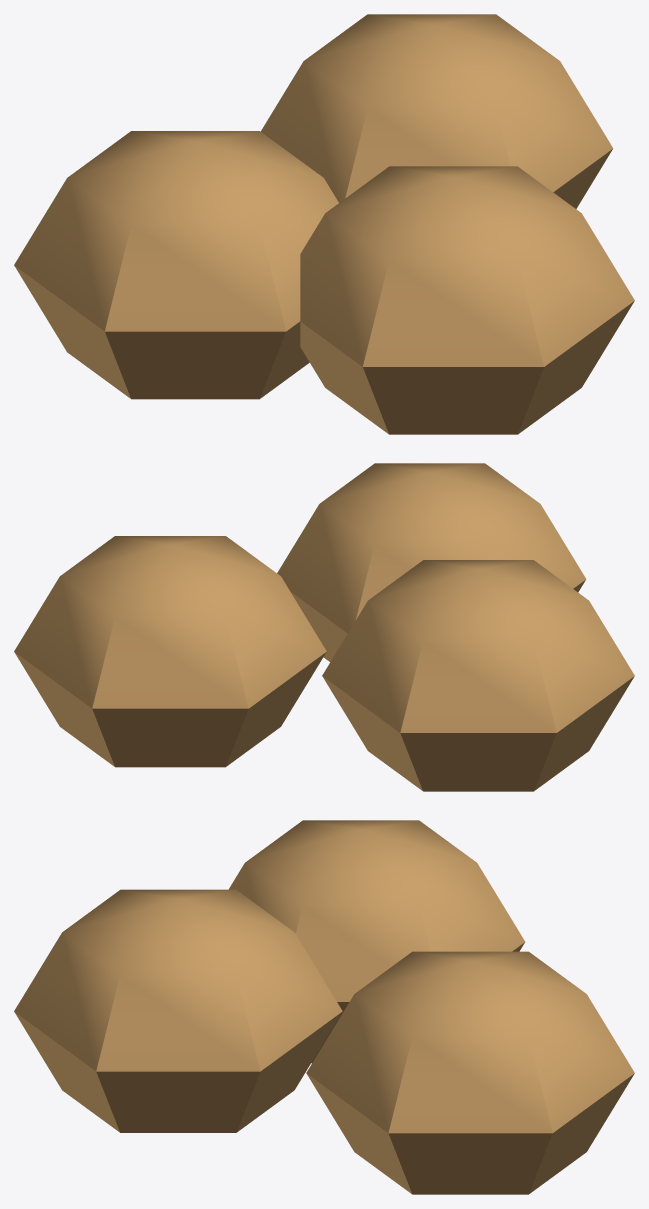
Rendered from potato.glb.
3 views of the same model, one above another, from view 1: azimuth 30°, elevation 25°; view 2: azimuth 150°, elevation 25°; view 3: azimuth 270°, elevation 25° (orthographic). The views are drawn at different scales.
Parts seen in each view (by area): view 1: potato; view 2: potato; view 3: potato.
Boxes of the visible parts, x1=… form: potato: x1=14, y1=14, x2=634, y2=434; potato: x1=14, y1=463, x2=634, y2=791; potato: x1=14, y1=820, x2=634, y2=1194.
Size of the model in its own units: 0.1629 by 0.0576 by 0.17.
Materials: 1 (1 with a texture image).
